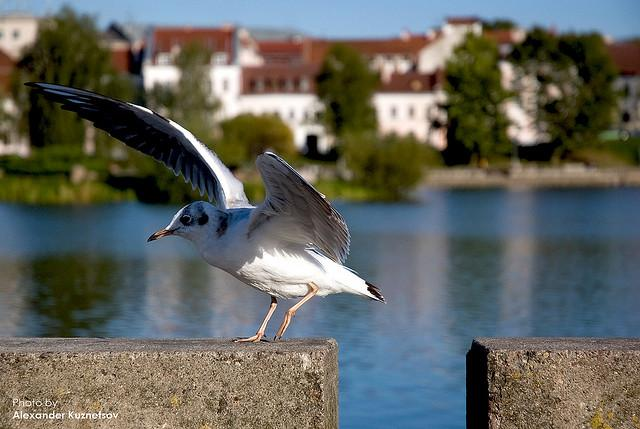bird: (24, 76, 393, 347)
